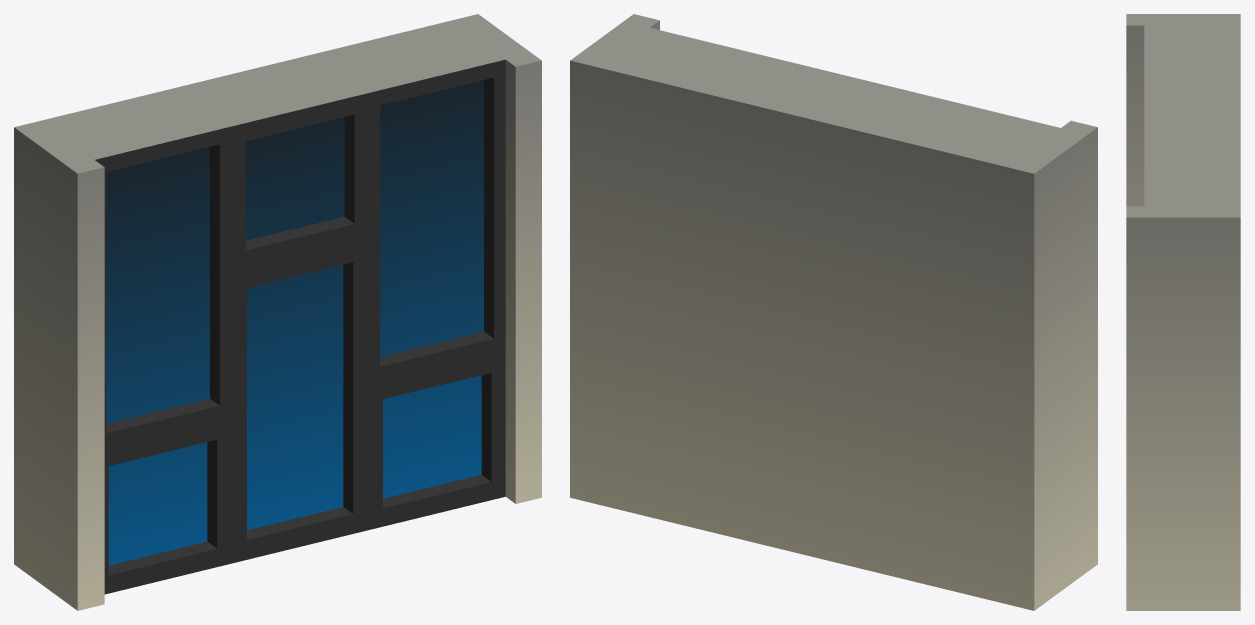
Rendered from B02_fenetre_4.fbx.
3 views of the same model, side by side, from view 1: azimuth 30°, elevation 25°; view 2: azimuth 150°, elevation 25°; view 3: azimuth 270°, elevation 25° (orthographic). The views are drawn at different scales.
Visible parts, largest first — view 1: B02_fenetre_4; view 2: B02_fenetre_4; view 3: B02_fenetre_4.
Boxes of the visible parts, x1=… form: B02_fenetre_4: x1=14, y1=14, x2=541, y2=610; B02_fenetre_4: x1=570, y1=14, x2=1097, y2=610; B02_fenetre_4: x1=1126, y1=14, x2=1240, y2=610.
Size of the model in its own units: 500 by 450 by 119.
